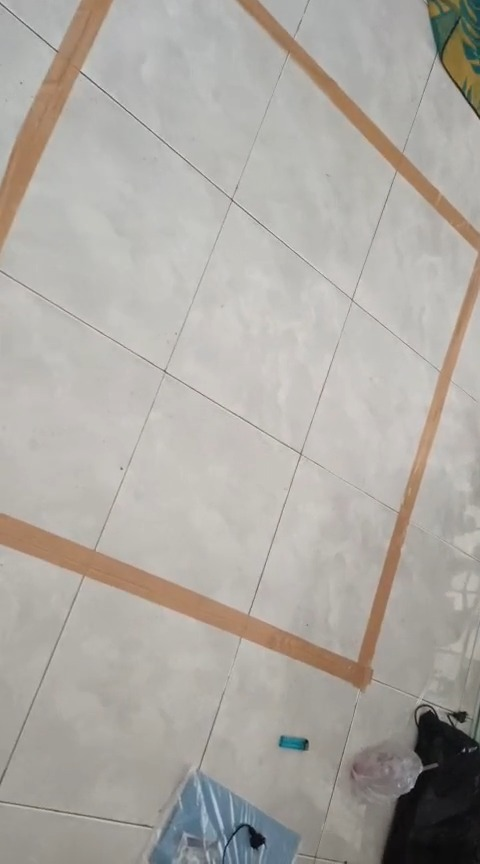floor marking: (0, 0, 479, 688), (0, 0, 111, 248)
